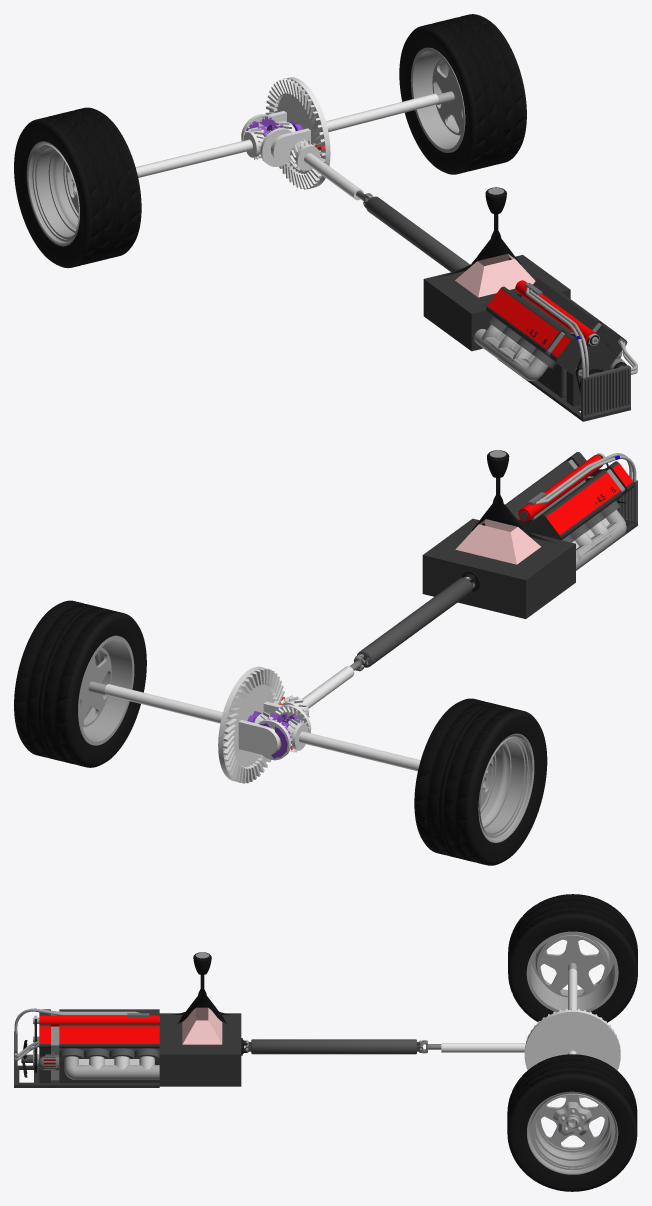
File: Transmission(No Anim).glb
3 renders of one model, top to bottom at view 1: azimuth 30°, elevation 25°; view 2: azimuth 150°, elevation 25°; view 3: azimuth 270°, elevation 25°, orthographic. The views are drawn at different scales.
Visible parts, largest first — view 1: g_object_10, g_object_9, g_object_12, g_cylinder_4, g_object_8, g_object_ (loose mesh)_4, c_stick shift (loose mesh)_2, c_component#5_2, g_cylinder_3, g_object_11, g_object_ (loose mesh)_3; view 2: g_object_10, g_object_9, g_object_12, g_object_8, g_cylinder_4, g_object_ (loose mesh)_4, c_stick shift (loose mesh)_2, c_component#5_2, g_cylinder_3, g_object_ (loose mesh)_3, g_object_11; view 3: g_object_9, g_object_10, g_object_12, g_object_8, g_cylinder_4, g_object_ (loose mesh)_4, c_stick shift (loose mesh)_2, c_component#5_2, g_object_11, g_object_ (loose mesh)_3, g_cylinder_3.
Part boxes in pixels (bbox=[...]): g_object_10: bbox=[14, 107, 141, 268]; g_object_9: bbox=[399, 14, 526, 174]; g_object_12: bbox=[474, 277, 637, 421]; g_cylinder_4: bbox=[241, 77, 330, 189]; g_object_8: bbox=[423, 255, 570, 351]; g_object_ (loose mesh)_4: bbox=[356, 191, 469, 272]; c_stick shift (loose mesh)_2: bbox=[455, 253, 535, 297]; c_component#5_2: bbox=[326, 91, 454, 132]; g_cylinder_3: bbox=[71, 139, 252, 197]; g_object_11: bbox=[304, 153, 363, 200]; g_object_ (loose mesh)_3: bbox=[439, 214, 521, 277]; g_object_10: bbox=[414, 698, 547, 865]; g_object_9: bbox=[14, 600, 146, 767]; g_object_12: bbox=[505, 452, 637, 570]; g_object_8: bbox=[422, 518, 575, 618]; g_cylinder_4: bbox=[218, 666, 311, 783]; g_object_ (loose mesh)_4: bbox=[349, 571, 480, 671]; c_stick shift (loose mesh)_2: bbox=[455, 519, 540, 564]; c_component#5_2: bbox=[88, 681, 222, 723]; g_cylinder_3: bbox=[299, 731, 487, 791]; g_object_ (loose mesh)_3: bbox=[471, 478, 557, 543]; g_object_11: bbox=[302, 666, 354, 708]; g_object_9: bbox=[507, 1054, 637, 1191]; g_object_10: bbox=[508, 894, 637, 1022]; g_object_12: bbox=[14, 1008, 159, 1087]; g_object_8: bbox=[159, 1013, 241, 1086]; g_cylinder_4: bbox=[524, 1008, 620, 1098]; g_object_ (loose mesh)_4: bbox=[241, 1038, 441, 1055]; c_stick shift (loose mesh)_2: bbox=[182, 1007, 222, 1044]; c_component#5_2: bbox=[553, 1050, 592, 1135]; g_object_11: bbox=[441, 1043, 525, 1052]; g_object_ (loose mesh)_3: bbox=[172, 975, 232, 1024]; g_cylinder_3: bbox=[568, 963, 577, 1009].
Size of the model in its own units: 3.19 by 1.22 by 4.6.
